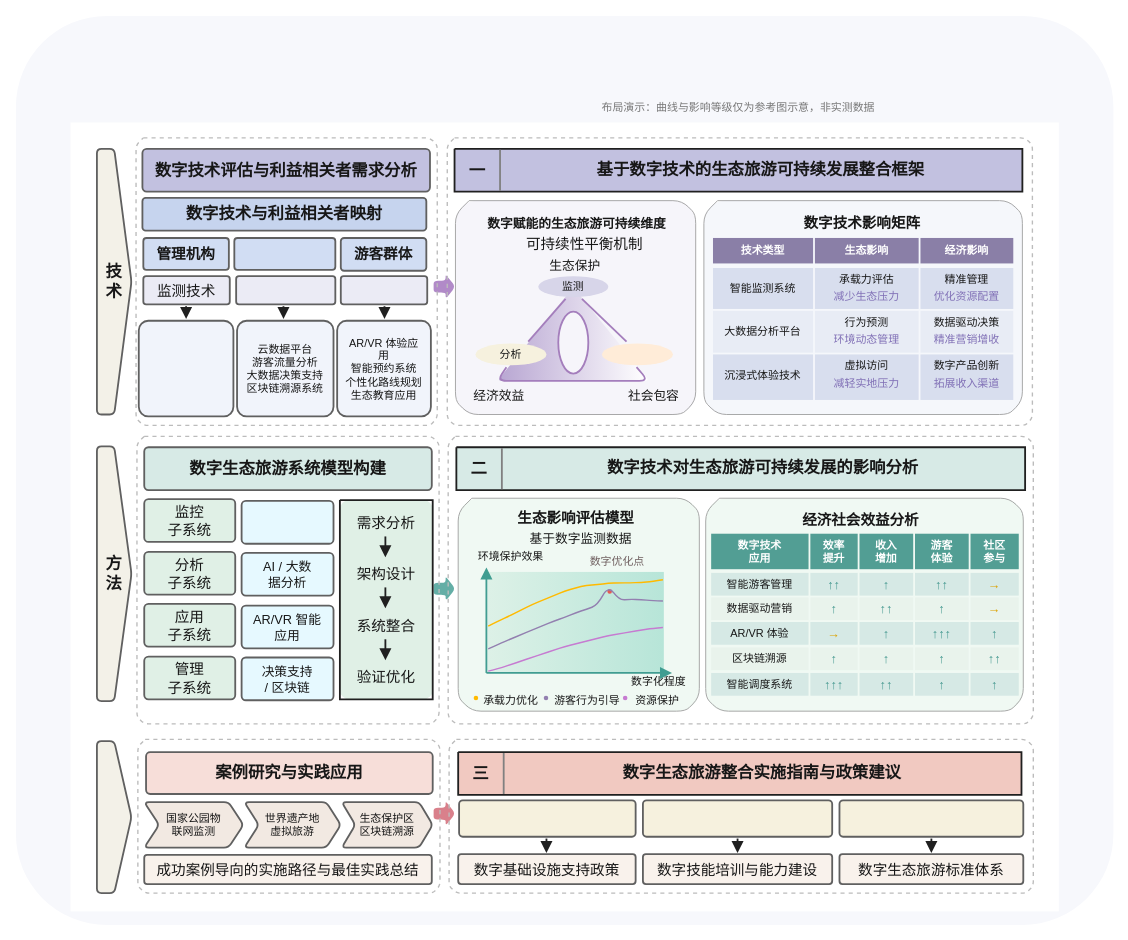
Image size: 1128x940. Some labels were removed from this diagram. The box of each missing label's shape, as (x1, y1, x2, y2) in pixels:
IoT 传感器网络 环境监测系统 遥感与 GIS 技术 生态实时监测: (137, 319, 234, 417)
传感网络 / 遥感: (240, 500, 334, 544)
实施阶段: (642, 799, 833, 837)
应 用: (96, 740, 132, 894)
数 字 整 合: (557, 310, 589, 374)
数字生态旅游实施框架: (458, 799, 636, 837)
数据平台: (235, 275, 336, 305)
旅游经营者: (233, 237, 336, 270)
智能应用: (339, 275, 428, 305)
管理: (602, 343, 672, 365)
经济 - 生态双赢发展: (838, 799, 1024, 837)
